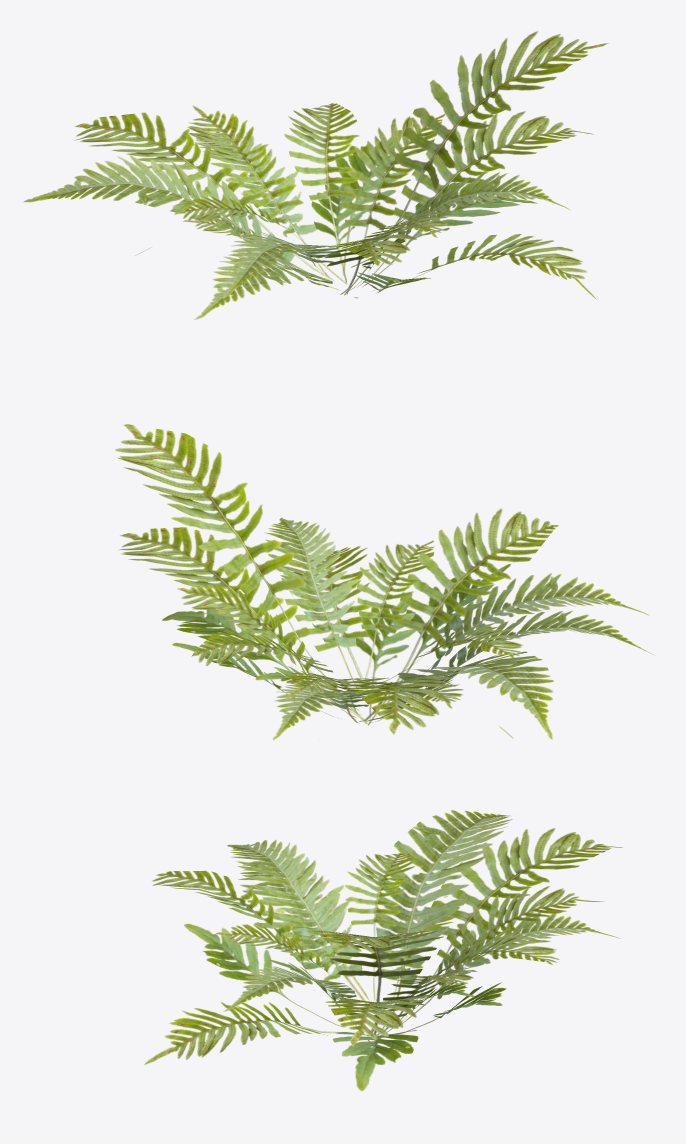
The model's file is fern.glb.
3 views of the same model, one above another, from view 1: azimuth 30°, elevation 25°; view 2: azimuth 150°, elevation 25°; view 3: azimuth 270°, elevation 25° (orthographic). The views are drawn at different scales.
Visible parts, largest first — view 1: Plane_Plant1_0; view 2: Plane_Plant1_0; view 3: Plane_Plant1_0.
Part boxes in pixels (x1,y1,x2,y2): Plane_Plant1_0: (23, 31, 608, 319); Plane_Plant1_0: (115, 424, 654, 740); Plane_Plant1_0: (144, 810, 622, 1090).
Size of the model in its own units: 1180 by 399 by 1128.
Materials: 1 (1 with a texture image).
